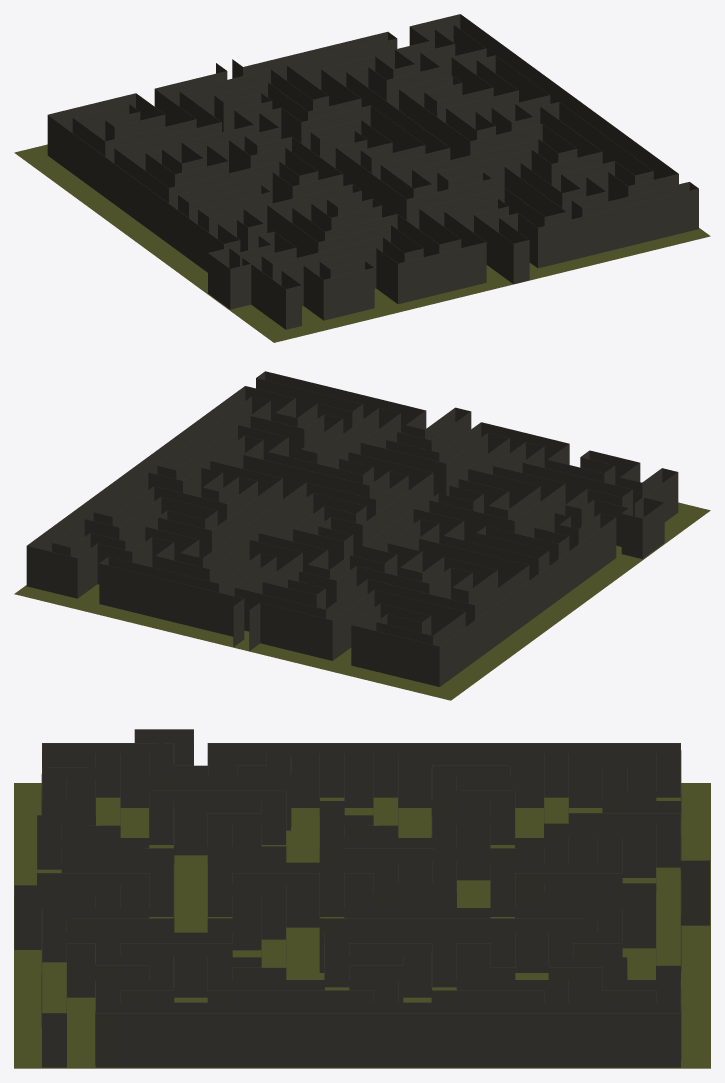
File: Maze2.fbx
3 views of the same model, one above another, from view 1: azimuth 30°, elevation 25°; view 2: azimuth 150°, elevation 25°; view 3: azimuth 270°, elevation 25° (orthographic). The views are drawn at different scales.
Parts seen in each view (by area): view 1: Maze.002; view 2: Maze.002; view 3: Maze.002.
Part boxes in pixels (left/top/right/bottom): Maze.002: left=14, top=14, right=710, bottom=342; Maze.002: left=14, top=371, right=710, bottom=700; Maze.002: left=14, top=729, right=710, bottom=1068.
Bounding box in the file's own units: 139 × 12.4 × 143.
